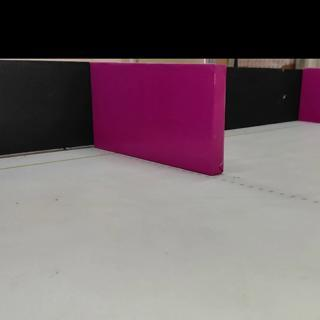xparking: (92, 66, 223, 161), (304, 69, 320, 122)
